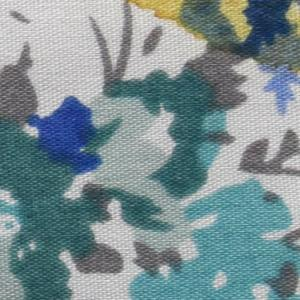Oil Stain: (122, 1, 300, 77)
